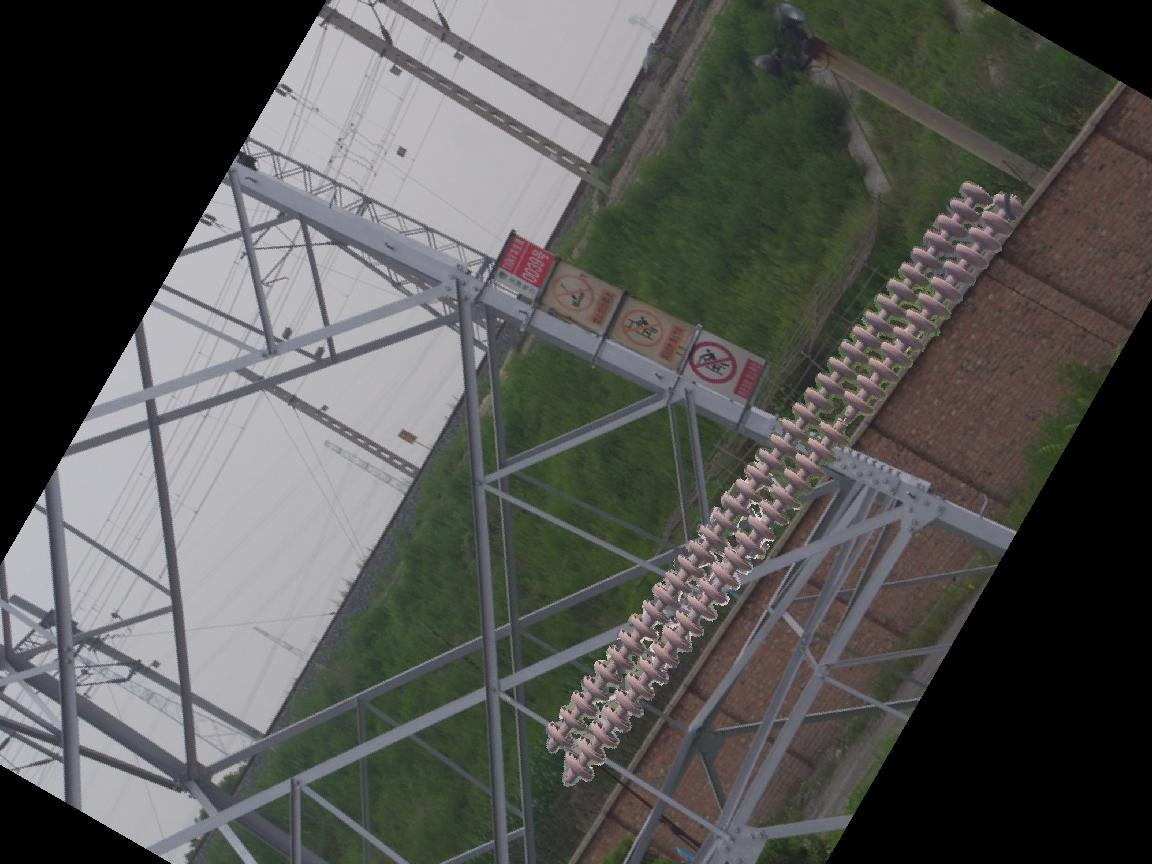insulator: (535, 171, 1024, 793)
insulator_stringdrop: (817, 388, 878, 450)
